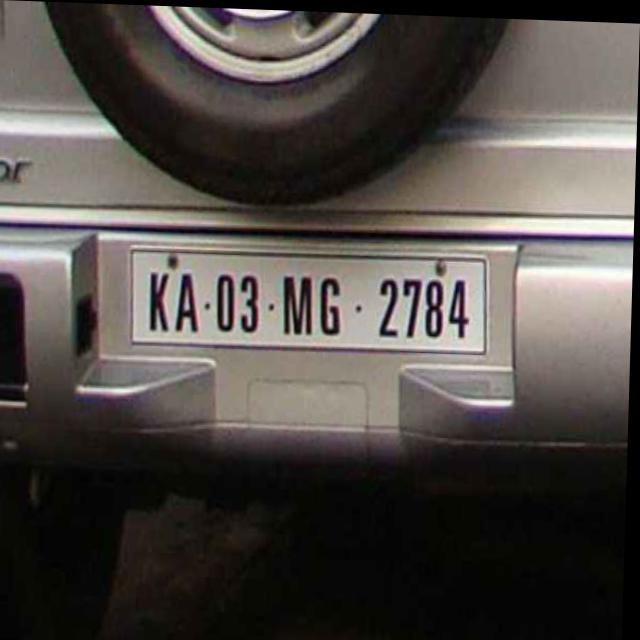licence: (126, 247, 486, 348)
